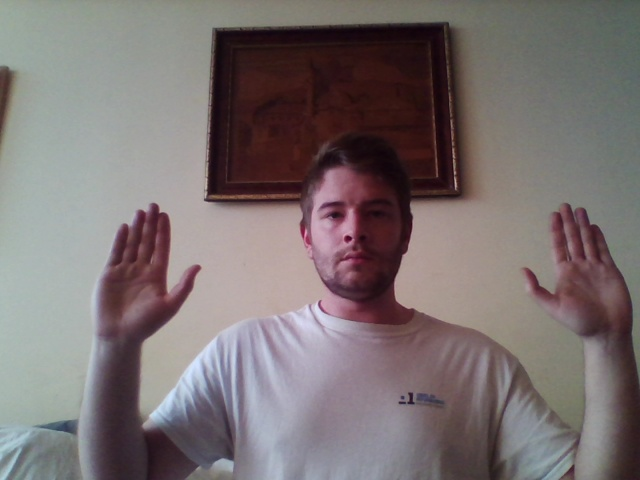prekrasno: (87, 199, 635, 341)
